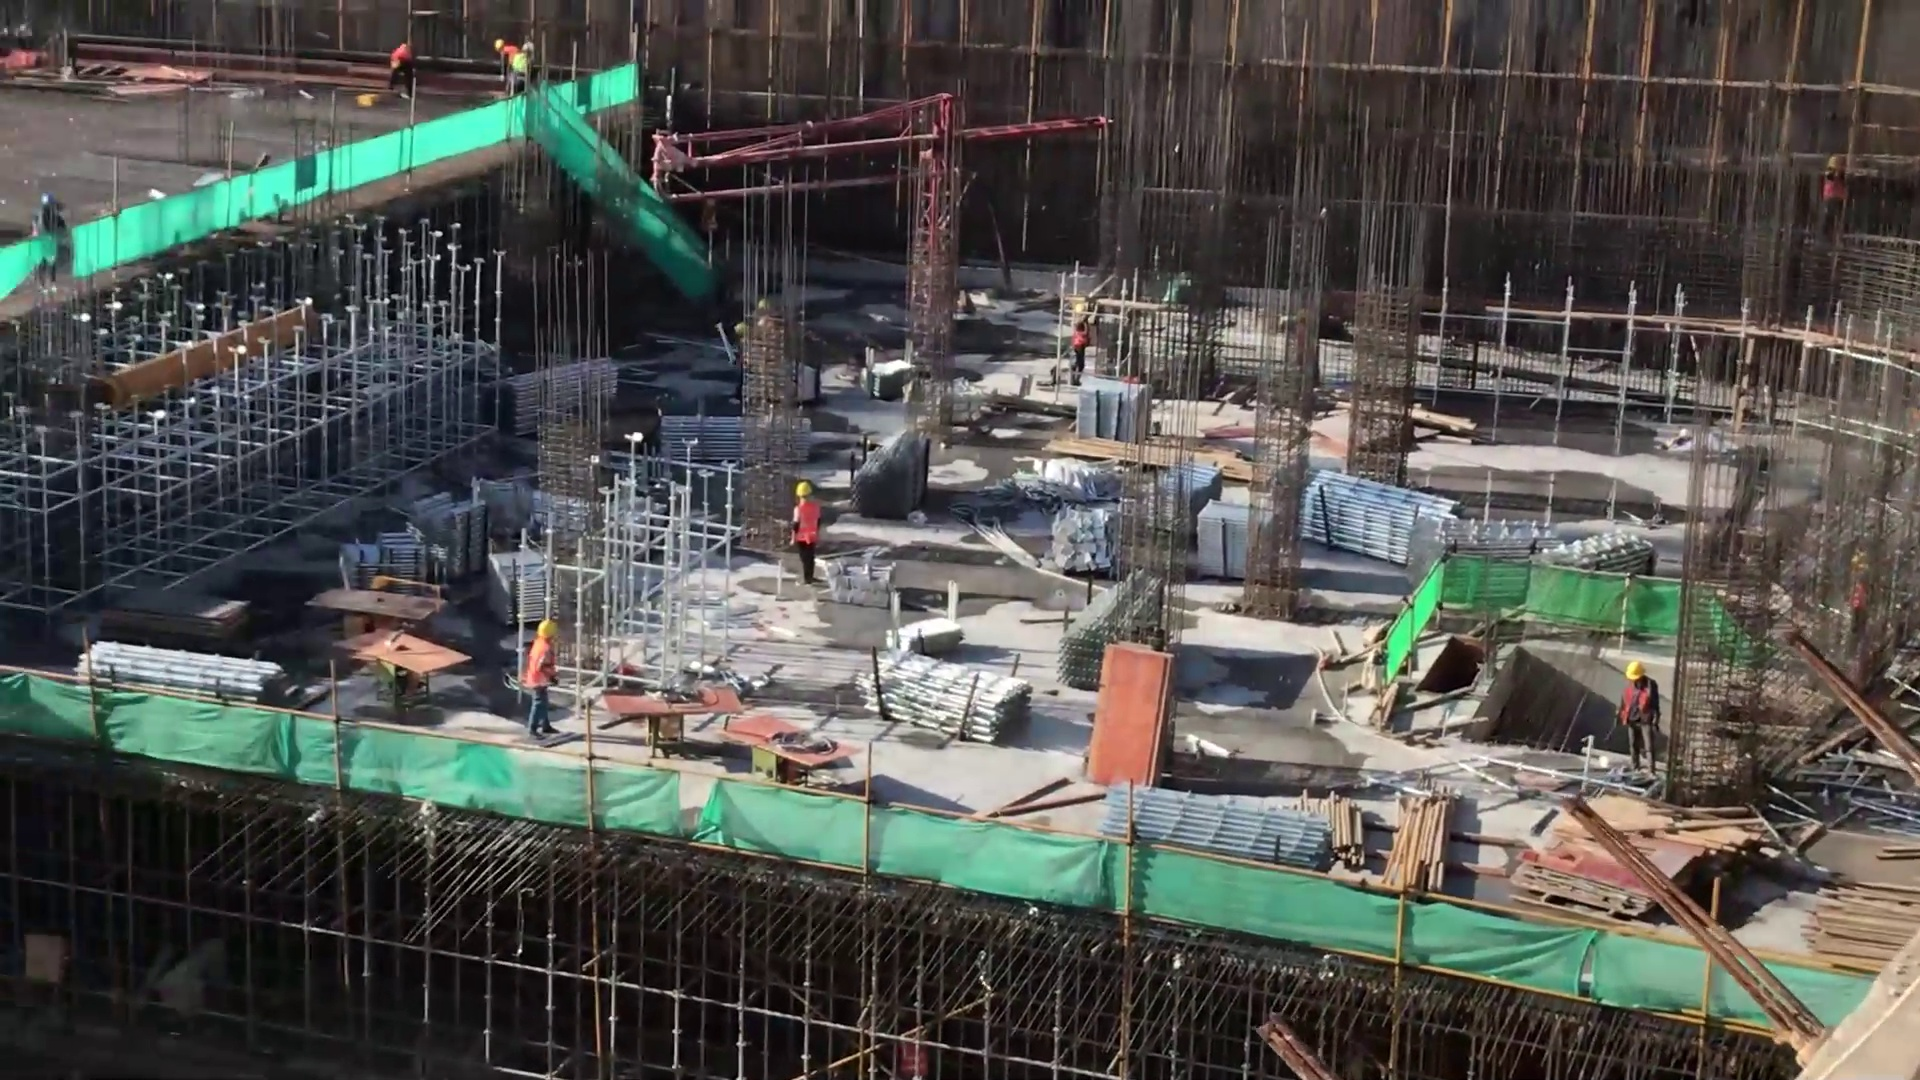board: (606, 682, 847, 789), (310, 572, 463, 696), (1801, 871, 1920, 986), (1528, 826, 1643, 922), (1096, 644, 1171, 786)
helmet: (520, 607, 563, 648), (785, 476, 818, 508), (1619, 654, 1649, 685)
person: (1617, 655, 1670, 778), (788, 472, 827, 583), (529, 623, 566, 736), (379, 37, 422, 101), (505, 42, 541, 104), (1068, 299, 1091, 391), (491, 36, 523, 92)
scaffold: (1099, 767, 1364, 865), (864, 649, 1044, 761), (60, 626, 299, 705), (1295, 470, 1448, 560), (659, 411, 749, 463)
vest: (521, 631, 555, 687), (787, 499, 819, 551), (1626, 684, 1655, 727), (1070, 320, 1089, 358), (501, 46, 519, 62)
wood: (1047, 414, 1285, 500), (1384, 792, 1458, 918)
